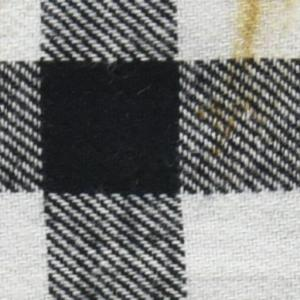Oil Stain: (188, 1, 300, 163)
